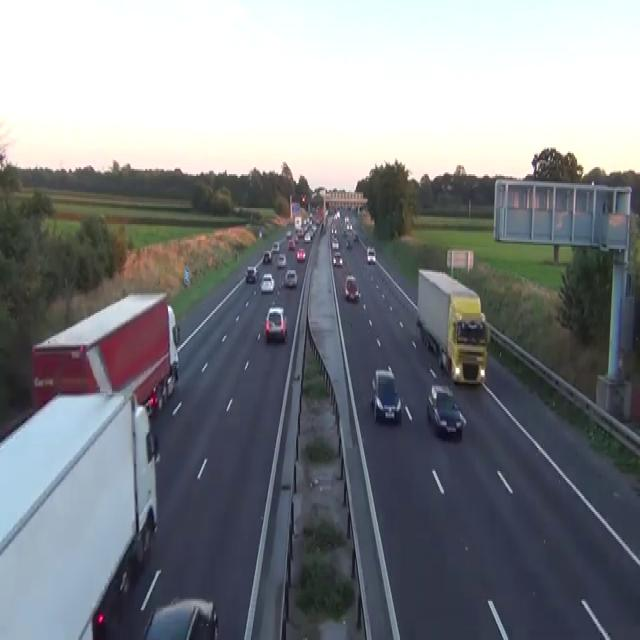Car: (142, 596, 218, 638), (427, 384, 466, 439), (370, 366, 401, 423), (416, 318, 439, 356), (264, 306, 287, 341), (144, 386, 161, 416), (344, 274, 360, 300), (260, 272, 274, 292), (284, 268, 297, 288), (245, 265, 257, 283), (366, 244, 376, 263), (332, 250, 342, 266), (183, 267, 190, 288), (296, 247, 305, 261), (277, 252, 286, 266), (263, 249, 272, 263), (271, 240, 279, 252), (331, 238, 339, 249), (296, 228, 304, 238), (288, 238, 295, 249), (304, 231, 311, 242), (345, 238, 352, 249), (233, 204, 240, 213), (331, 226, 337, 236), (334, 210, 340, 220), (285, 230, 292, 238), (353, 231, 358, 242), (344, 215, 349, 224), (347, 222, 352, 230), (301, 194, 306, 202), (294, 234, 299, 242), (258, 230, 262, 238)
Truck: (0, 390, 159, 638), (31, 290, 180, 416), (416, 266, 488, 386)
